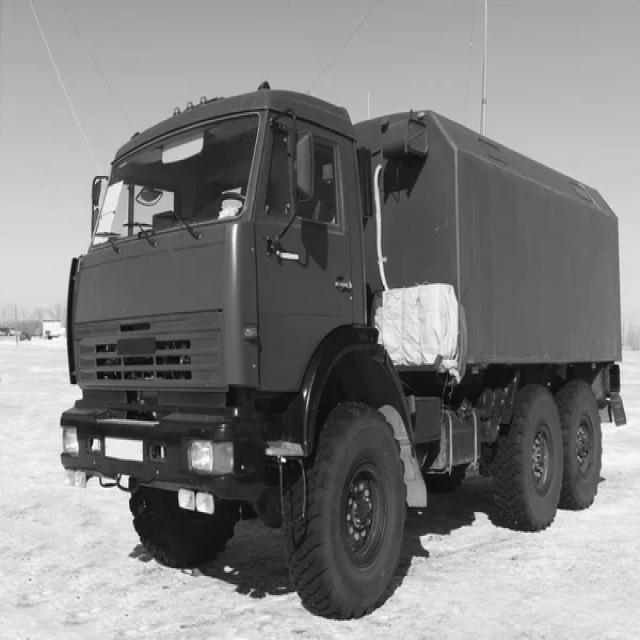Truck: (60, 84, 627, 618)
